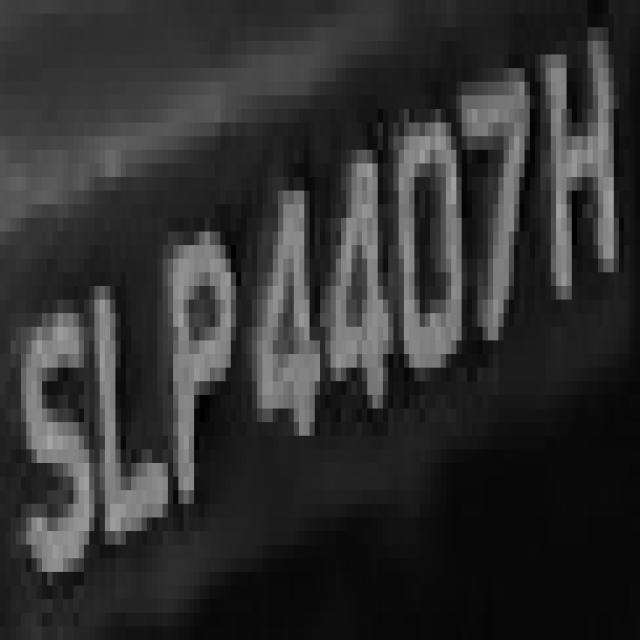0: (383, 68, 467, 381)
4: (236, 136, 331, 504), (314, 95, 398, 504)
7: (440, 27, 530, 409)
H: (535, 14, 630, 354)
L: (89, 191, 168, 558)
P: (152, 245, 247, 531)
S: (5, 245, 94, 586)
